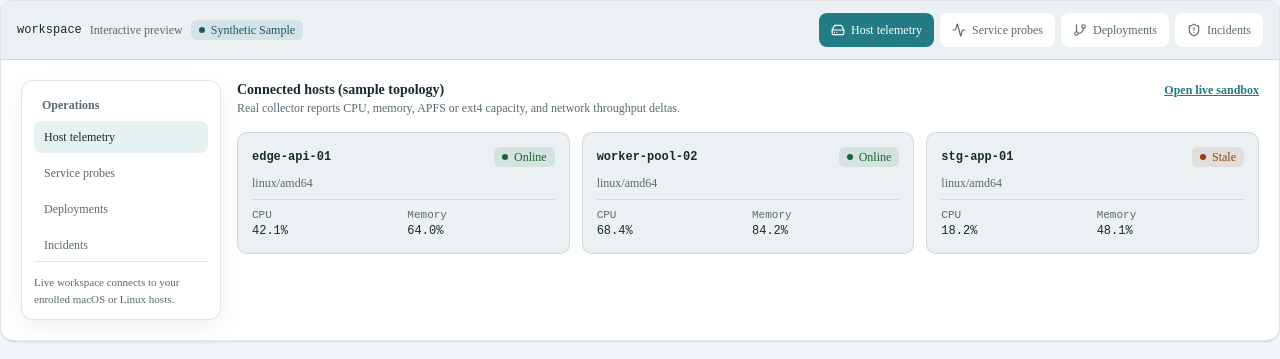
Test: HeroWorkspacePreview › switches between interactive tabs without fabricated live claims
expect the text "Synthetic sample" is shown: met, box [211,22,295,38]
expect the heading "Connected hosts (sample topology)" is shown: met, box [237,82,444,97]
Click the tab "Deployments".
click(1115, 30)  # box [1061,13,1169,47]
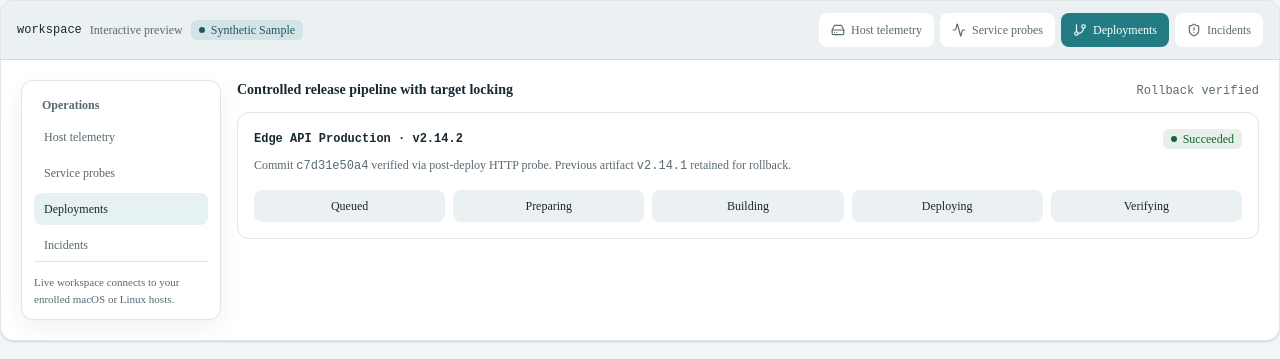
expect the heading "Controlled release pipeline with target locking" is shown: met, box [237,80,513,100]
Click the tab "Incidents".
click(1219, 30)  # box [1175,13,1263,47]
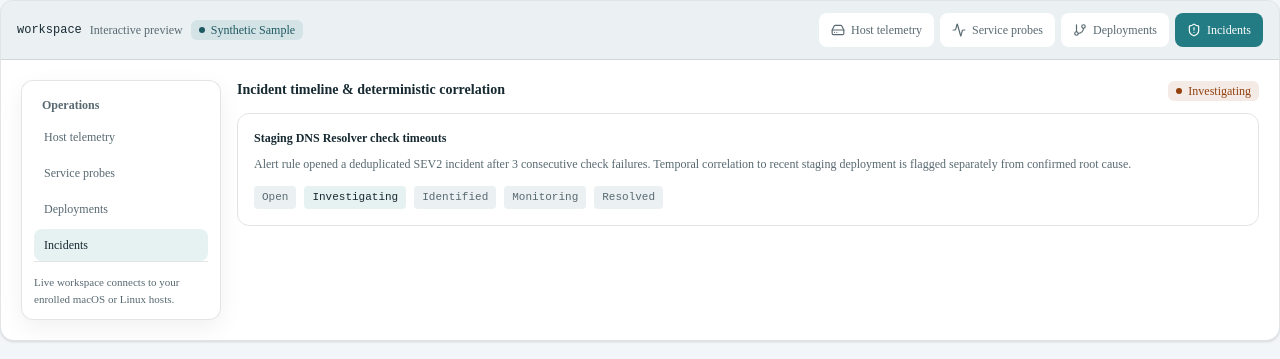
expect the heading "Incident timeline & deterministic correlation" is shown: met, box [237,80,505,100]
